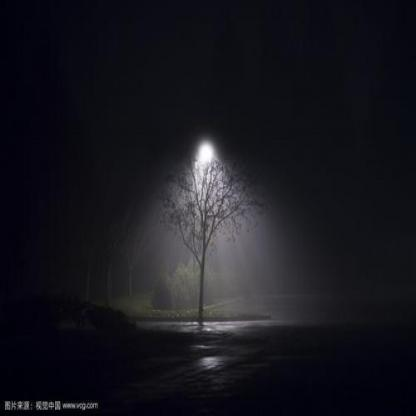other: (188, 131, 233, 218)
